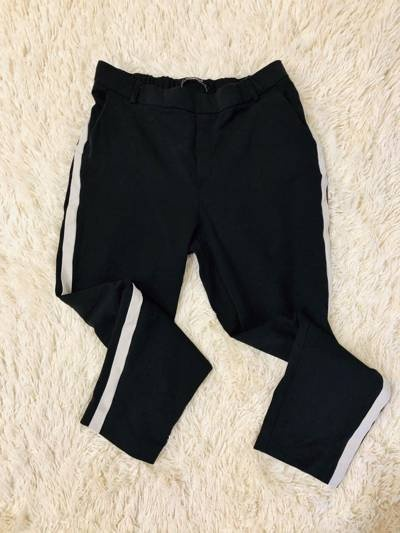Pants: (43, 44, 383, 481)
